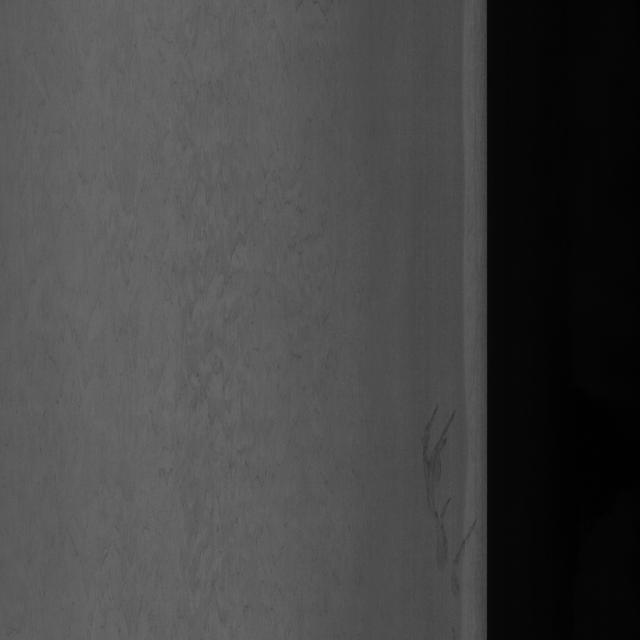inclusion: (90, 74, 338, 620)
water_spot: (412, 397, 468, 594)
